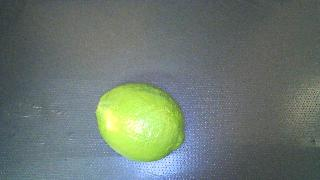EXPORTACION: (96, 83, 185, 162)
